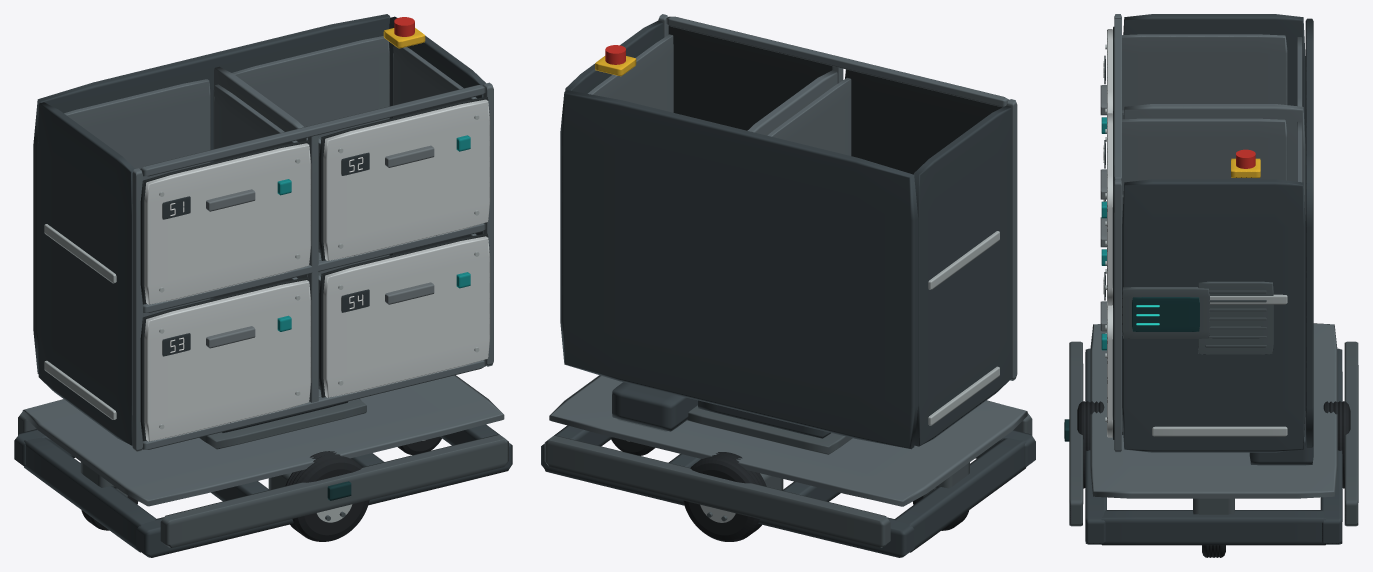
Rendered from etape_11_commandes.glb.
The picture shows the model from 3 angles, left to right: view 1: azimuth 30°, elevation 25°; view 2: azimuth 150°, elevation 25°; view 3: azimuth 270°, elevation 25°; orthographic projection. The views are drawn at different scales.
Visible parts, largest first — view 1: AGV_paroi_laterale_-0.49, AGV_plaque_superieure_chassis, AGV_S2_facade, AGV_S3_facade, AGV_S1_facade, AGV_S4_facade, AGV_pare_chocs_avant, AGV_paroi_arriere, AGV_S2_fond_arriere, AGV_S1_fond_arriere, AGV_traverse_chassis_1, AGV_traverse_face_1.06 (+24 smaller); view 2: AGV_paroi_arriere, AGV_paroi_laterale_-0.49, AGV_plaque_superieure_chassis, AGV_pare_chocs_arriere, AGV_S2_joint_peripherique, AGV_S1_joint_peripherique, AGV_traverse_chassis_1, AGV_traverse_face_1.06, AGV_S1_flanc_droite, AGV_S2_flanc_droite, AGV_roue_motrice_droite, AGV_coffret_controleur_hypothese (+9 smaller); view 3: AGV_paroi_laterale_0.49, AGV_plaque_superieure_chassis, AGV_S1_flanc_gauche, AGV_S2_flanc_gauche, AGV_traverse_chassis_4, AGV_paroi_laterale_-0.49, AGV_paroi_arriere, AGV_grille_ventilation_fond, AGV_separateur_vertical, AGV_pare_chocs_arriere, AGV_pare_chocs_avant, AGV_ecran_commande (+16 smaller).
Boxes of the visible parts, box(x1,y1,x2,y2) form: AGV_paroi_laterale_-0.49: box(38, 102, 134, 445); AGV_plaque_superieure_chassis: box(22, 375, 504, 506); AGV_S2_facade: box(323, 99, 490, 260); AGV_S3_facade: box(144, 280, 311, 441); AGV_S1_facade: box(144, 143, 311, 304); AGV_S4_facade: box(323, 236, 490, 397); AGV_pare_chocs_avant: box(160, 434, 508, 547); AGV_paroi_arriere: box(33, 14, 390, 373); AGV_S2_fond_arriere: box(232, 36, 389, 136); AGV_S1_fond_arriere: box(64, 79, 210, 180); AGV_traverse_chassis_1: box(24, 437, 156, 552); AGV_traverse_face_1.06: box(140, 85, 486, 176); AGV_paroi_arriere: box(560, 90, 918, 449); AGV_paroi_laterale_-0.49: box(913, 105, 1012, 446); AGV_plaque_superieure_chassis: box(549, 375, 1027, 506); AGV_pare_chocs_arriere: box(544, 435, 890, 547); AGV_S2_joint_peripherique: box(668, 25, 832, 130); AGV_S1_joint_peripherique: box(845, 69, 1002, 174); AGV_traverse_chassis_1: box(895, 438, 1026, 552); AGV_traverse_face_1.06: box(665, 16, 1009, 106); AGV_S1_flanc_droite: box(767, 78, 851, 155); AGV_S2_flanc_droite: box(587, 34, 673, 112); AGV_roue_motrice_droite: box(683, 452, 766, 541); AGV_coffret_controleur_hypothese: box(612, 382, 697, 431); AGV_paroi_laterale_0.49: box(1122, 179, 1305, 452); AGV_plaque_superieure_chassis: box(1090, 323, 1337, 498); AGV_S1_flanc_gauche: box(1122, 34, 1287, 110); AGV_S2_flanc_gauche: box(1122, 118, 1287, 194); AGV_traverse_chassis_4: box(1101, 510, 1325, 545); AGV_paroi_laterale_-0.49: box(1123, 14, 1305, 143); AGV_paroi_arriere: box(1305, 18, 1313, 447); AGV_grille_ventilation_fond: box(1198, 281, 1273, 354); AGV_separateur_vertical: box(1123, 104, 1305, 220); AGV_pare_chocs_arriere: box(1344, 341, 1358, 526); AGV_pare_chocs_avant: box(1069, 341, 1083, 526); AGV_ecran_commande: box(1132, 297, 1199, 331).
Size of the model in its own units: 1.03 by 1.12 by 0.737.
